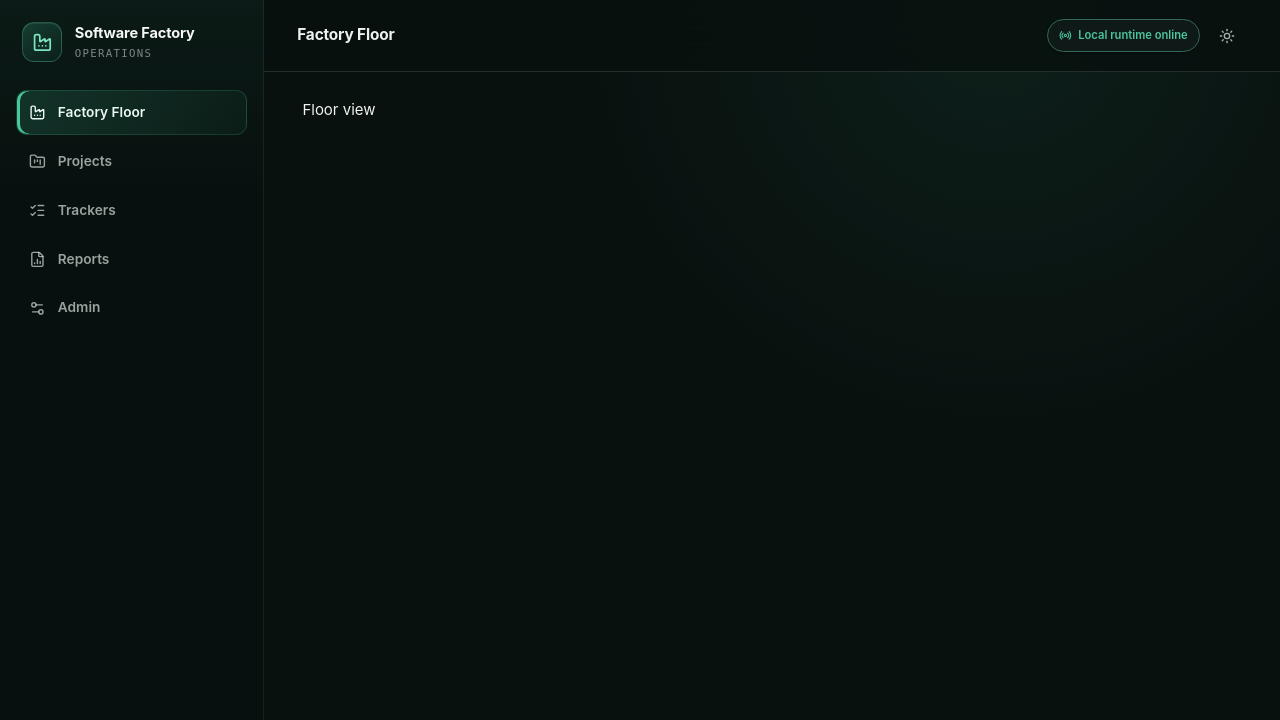
Test: AppShell › provides five working primary destinations and live runtime state
Expected: the link "Factory Floor" is shown, [16,90,247,135]
Expected: the link "Trackers" is shown, [29,202,116,219]
Step 1. Click the link "Projects" → click(70, 162), box [29,153,112,170]
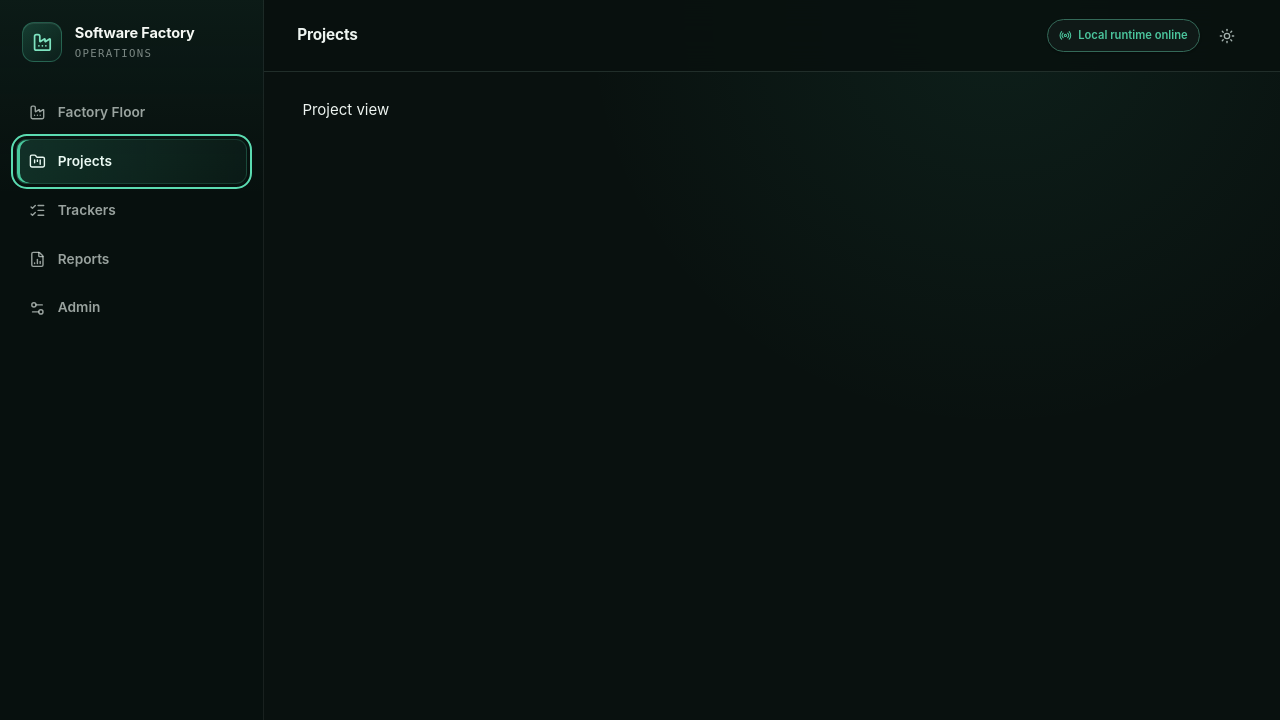
Expected: the number of headings is 1, [297,26,358,45]
Now the heading "Projects" is shown, box [297,26,358,45]
Now the text "Project view" is shown, box [302,100,389,119]
